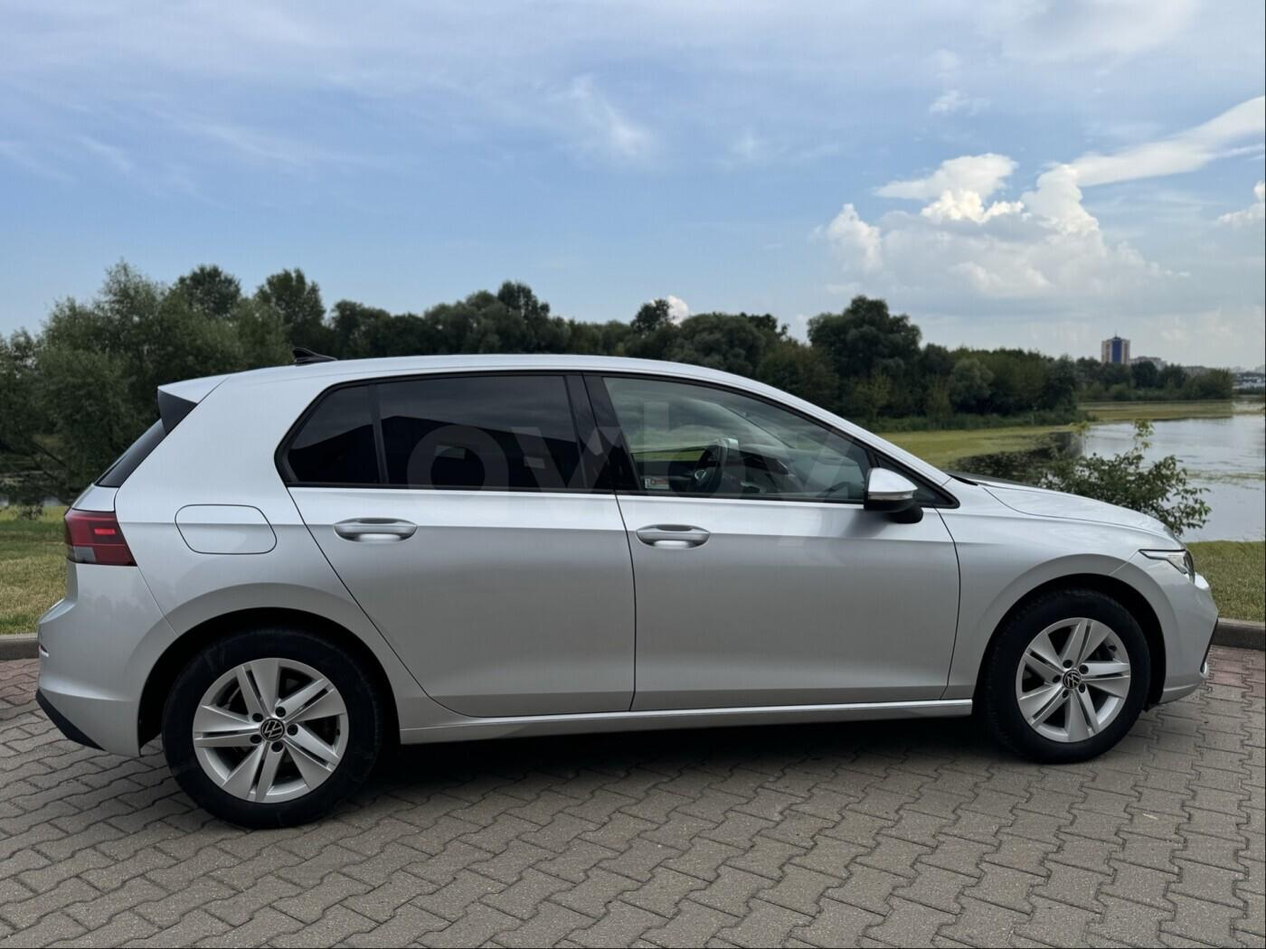Golf_2019: (34, 355, 1216, 824)
